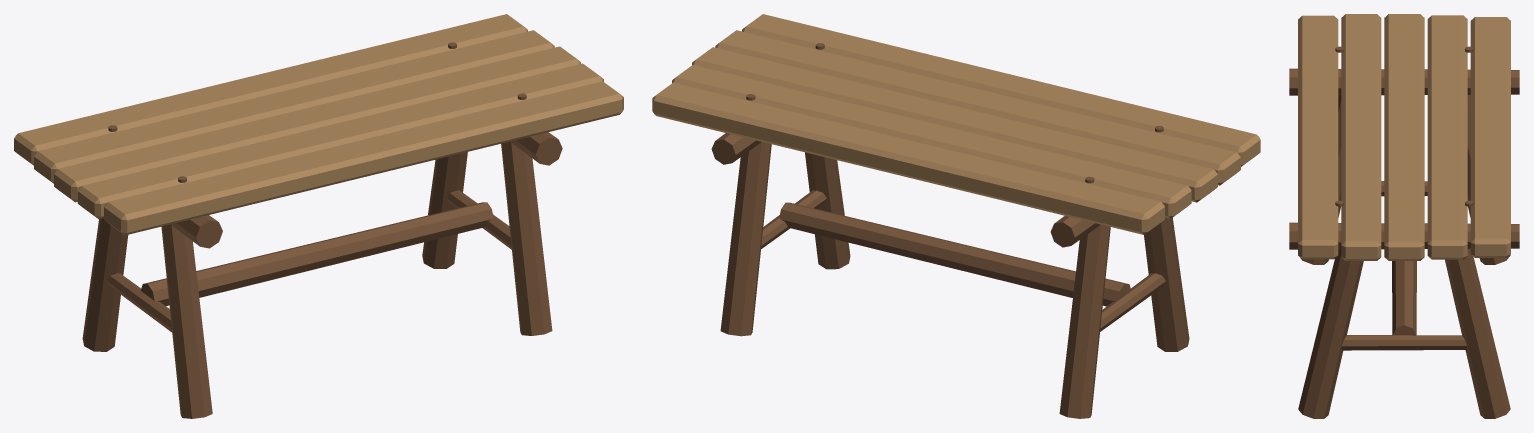
The picture shows the model from 3 angles, left to right: view 1: azimuth 30°, elevation 25°; view 2: azimuth 150°, elevation 25°; view 3: azimuth 270°, elevation 25°; orthographic projection. The views are drawn at different scales.
Parts seen in each view (by area): view 1: BA-0011 batched; view 2: BA-0011 batched; view 3: BA-0011 batched.
Part boxes in pixels (x1,y1,x2,y2): BA-0011 batched: [14, 14, 623, 418]; BA-0011 batched: [652, 14, 1260, 418]; BA-0011 batched: [1289, 14, 1519, 418].
Size of the model in its own units: 2.28 by 0.9796 by 0.96.
